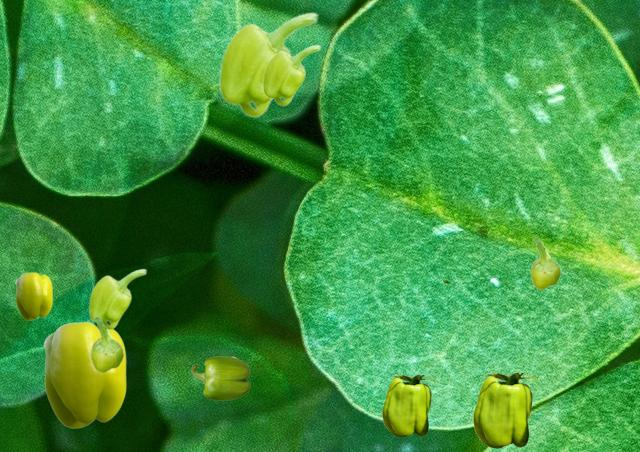bell_pepper: (218, 11, 318, 117), (43, 321, 125, 427), (473, 373, 537, 447), (88, 268, 146, 329), (262, 44, 320, 105), (382, 375, 435, 436), (191, 356, 249, 399), (90, 316, 123, 372), (15, 272, 51, 319), (530, 237, 560, 289)
